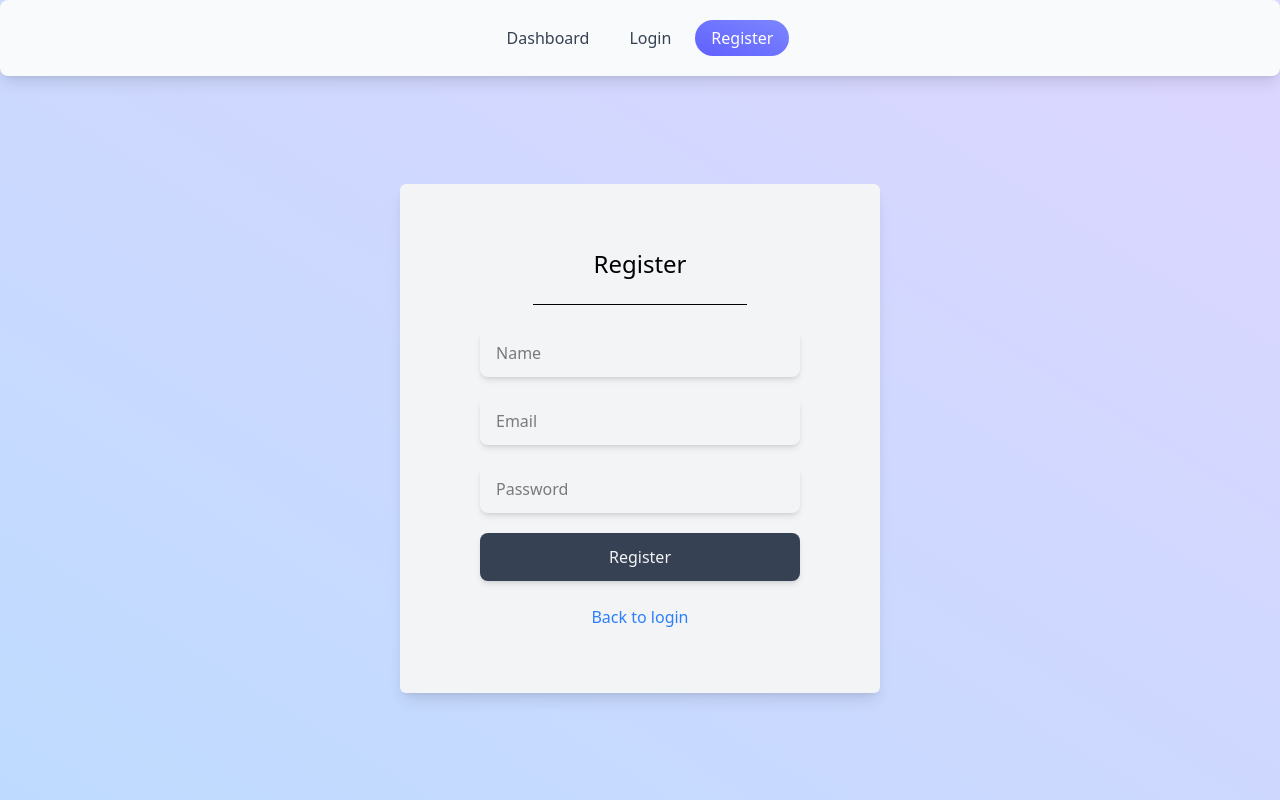
Test case: visiting login route › guest attempts to register with invalid details
The image size is (1280, 800).
Expected: the heading "Register" is shown, [594, 246, 686, 280]
Type "Te" into the field with placeholder "Name" at [640, 352], box [480, 328, 800, 376]
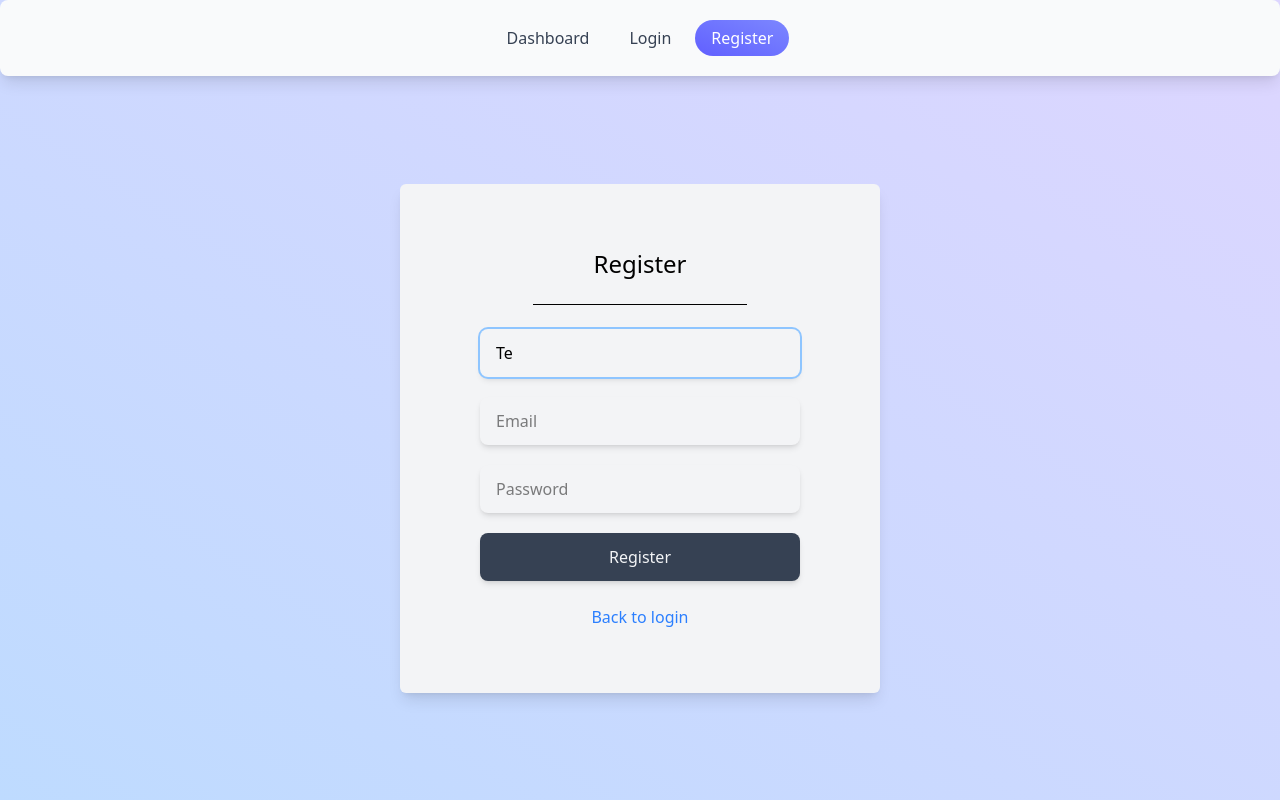
Type "taken-email@email.com" into the field with placeholder "Email" at [640, 420], box [480, 396, 800, 444]
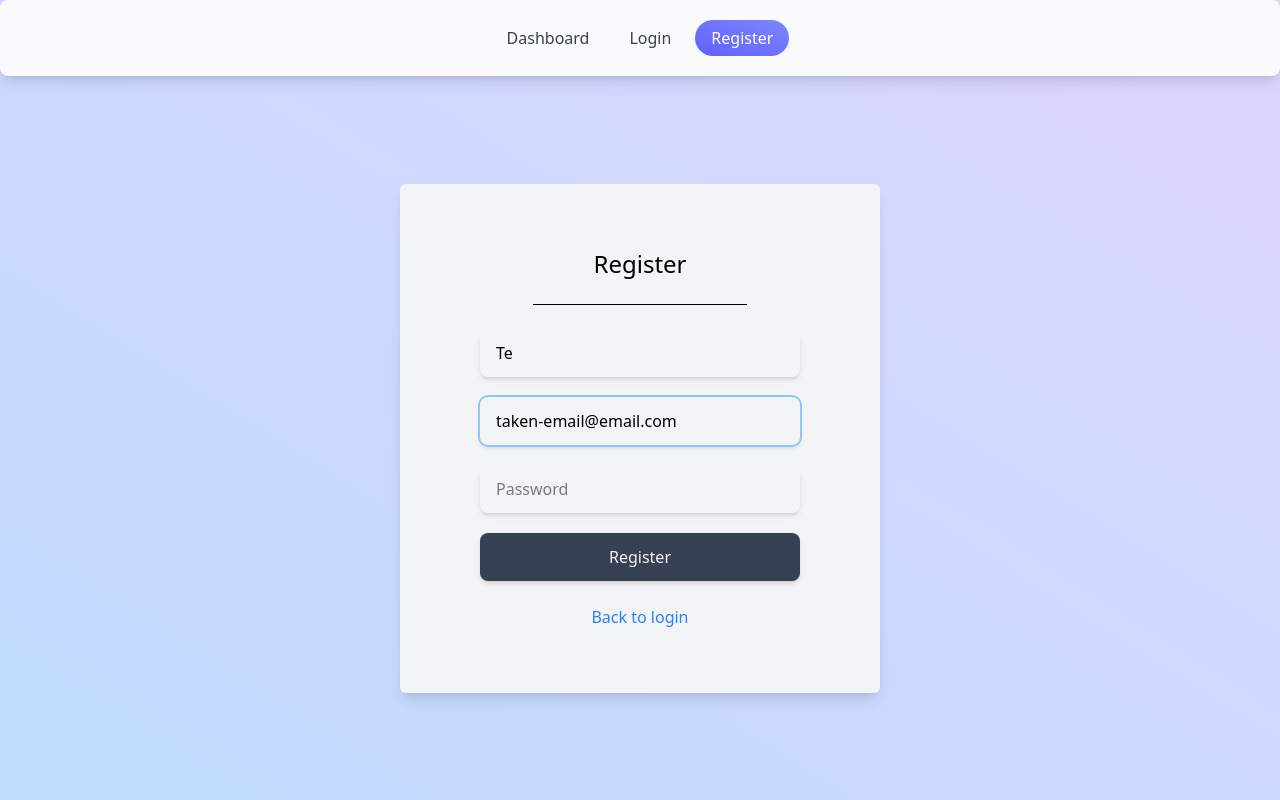
Type "pass" into the password field with placeholder "Password" at [640, 488], box [480, 464, 800, 512]
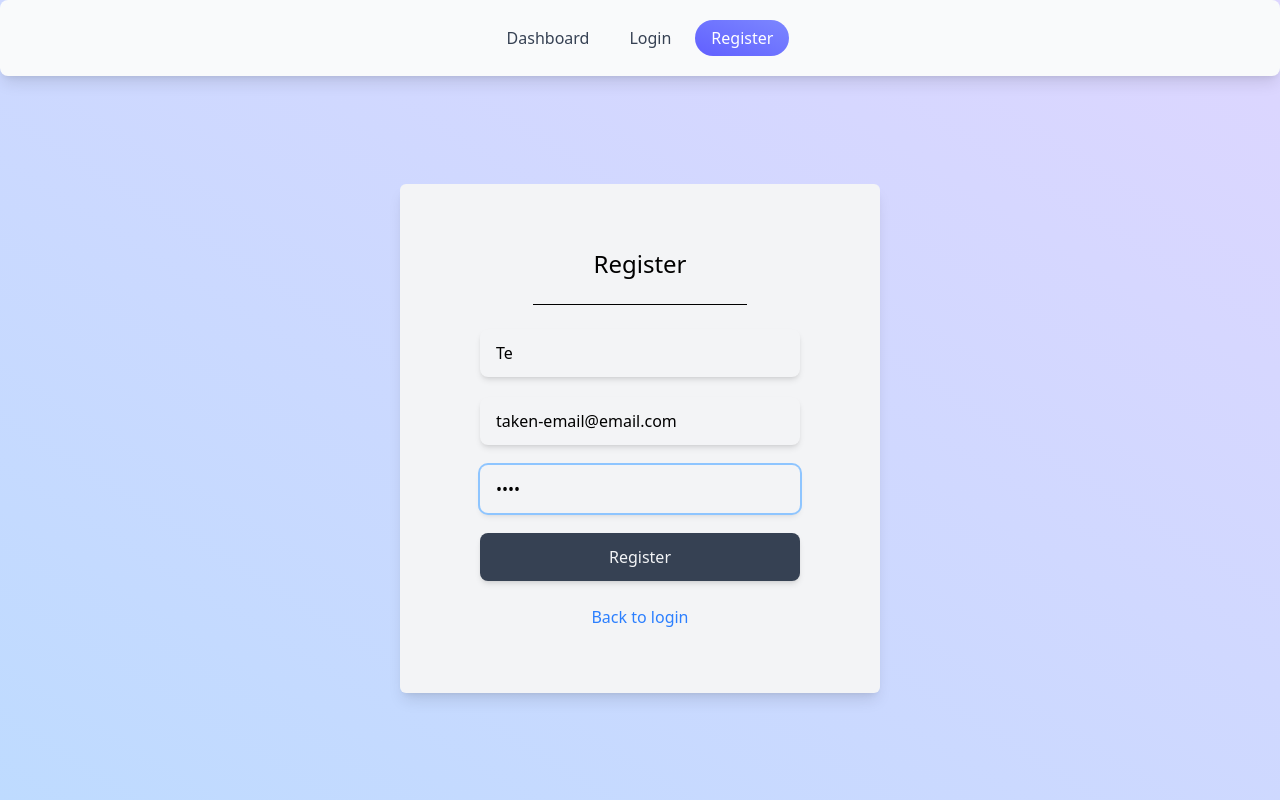
Submit the form
Click the button "Register" at [640, 556], box [480, 532, 800, 580]
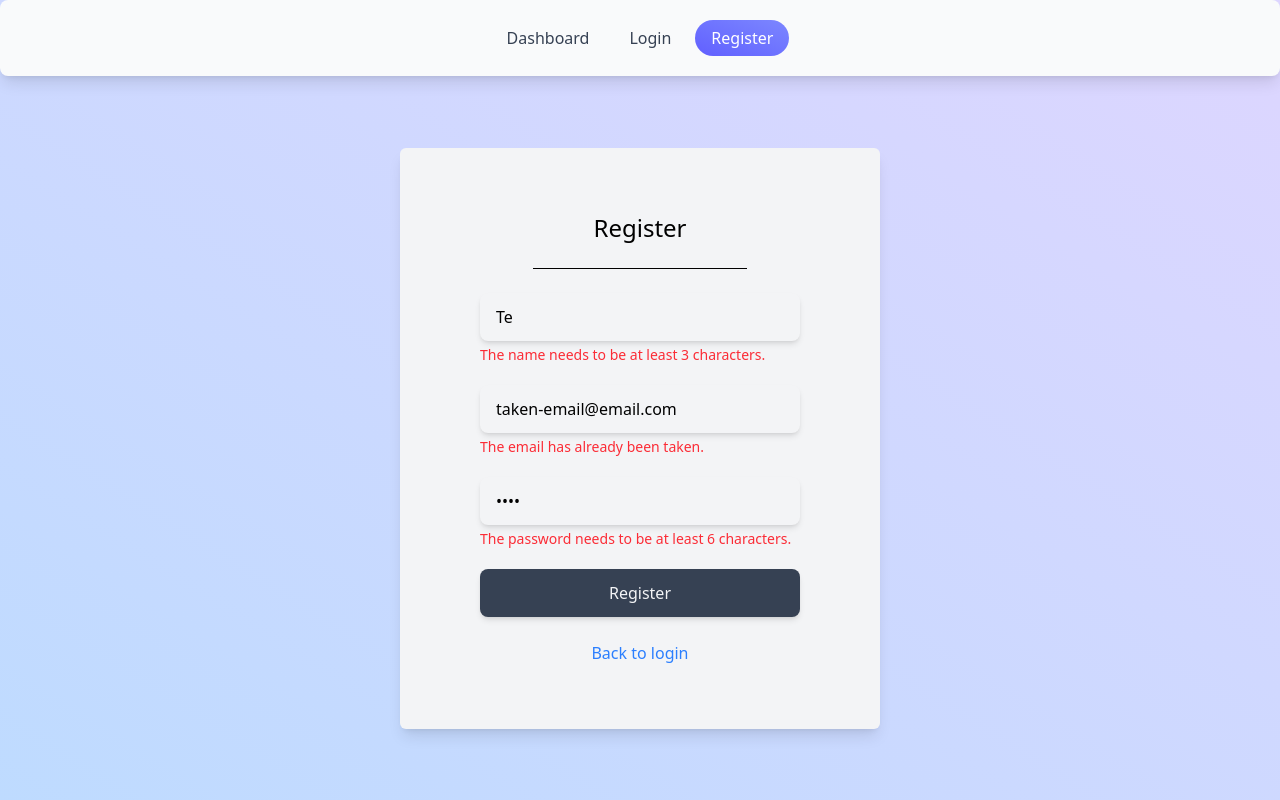
Result: the text "The name needs to be at least 3 characters." is shown at [480, 344, 800, 364]
Result: the text "The email has already been taken." is shown at [480, 436, 704, 456]
Result: the text "The password needs to be at least 6 characters." is shown at [480, 528, 800, 548]
